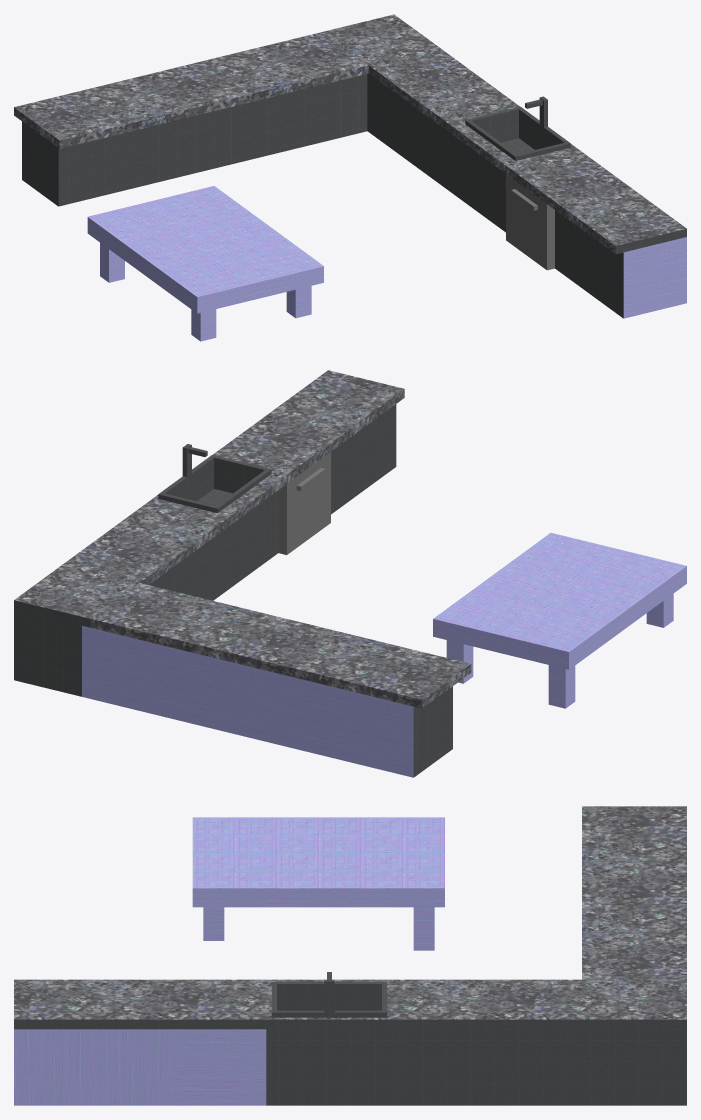
File: KitchenStuff.fbx
The picture shows the model from 3 angles, top to bottom: view 1: azimuth 30°, elevation 25°; view 2: azimuth 150°, elevation 25°; view 3: azimuth 270°, elevation 25°; orthographic projection. The views are drawn at different scales.
Parts seen in each view (by area): view 1: MaterialMesh, MaterialMesh_2, MaterialMesh_3, MaterialMesh_4, MaterialMesh_1; view 2: MaterialMesh_2, MaterialMesh_4, MaterialMesh, MaterialMesh_3, MaterialMesh_1; view 3: MaterialMesh, MaterialMesh_2, MaterialMesh_4, MaterialMesh_3.
Part boxes in pixels (x1,y1,x2,y2): MaterialMesh: (22,73,686,318); MaterialMesh_2: (14,14,686,253); MaterialMesh_3: (88,186,323,296); MaterialMesh_4: (87,217,686,341); MaterialMesh_1: (506,174,554,270); MaterialMesh_2: (14,370,471,708); MaterialMesh_4: (82,566,686,777); MaterialMesh: (14,404,452,777); MaterialMesh_3: (433,532,686,651); MaterialMesh_1: (278,452,330,554); MaterialMesh: (14,972,686,1105); MaterialMesh_2: (14,806,686,1019); MaterialMesh_4: (14,888,444,1105); MaterialMesh_3: (192,817,444,888).
Bounding box in the file's own units: 650 × 172 × 800.
